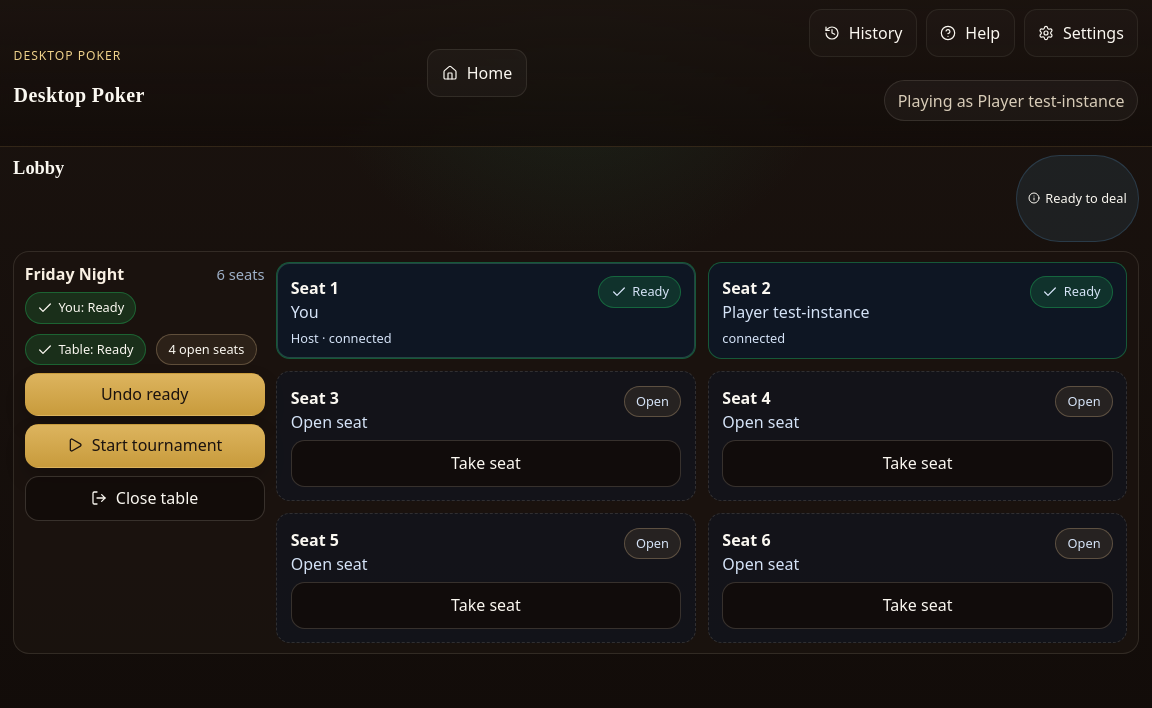
Test: AppShell integration (host and lobby) › enables the host start control only when the live lobby is authoritatively ready
Expected: the heading "Lobby" is shown, [13, 158, 64, 178]
Click the button "Start tournament" at (145, 446), box [25, 424, 265, 468]
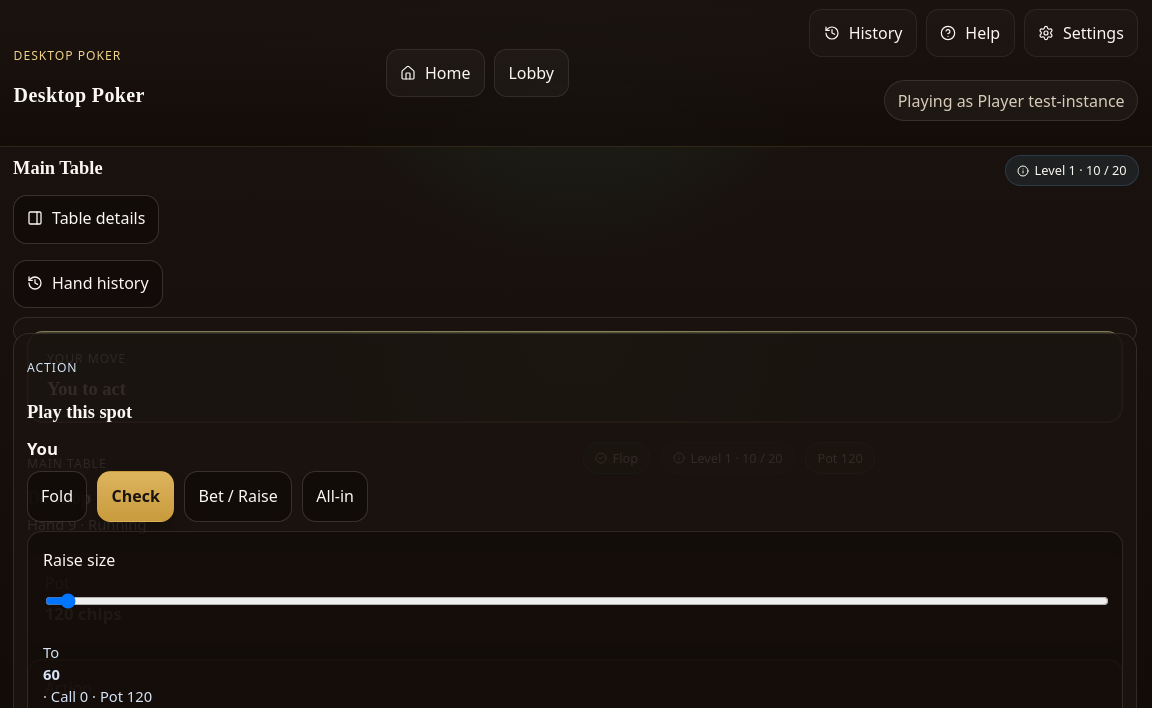
Now the heading "Main Table" is shown, box [13, 155, 102, 186]
